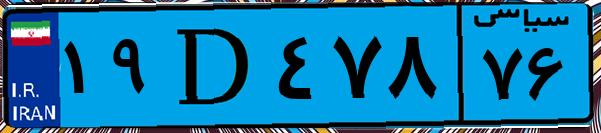1: (57, 26, 110, 100)
4: (270, 28, 330, 110)
6: (525, 38, 570, 115)
7: (330, 28, 385, 110), (475, 38, 525, 113)
8: (385, 28, 445, 110)
9: (110, 28, 158, 98)
D: (158, 12, 270, 120)
